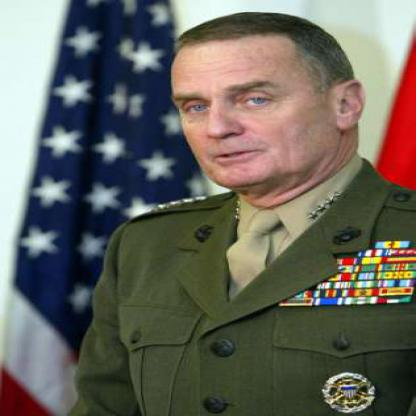face: (162, 16, 342, 193)
